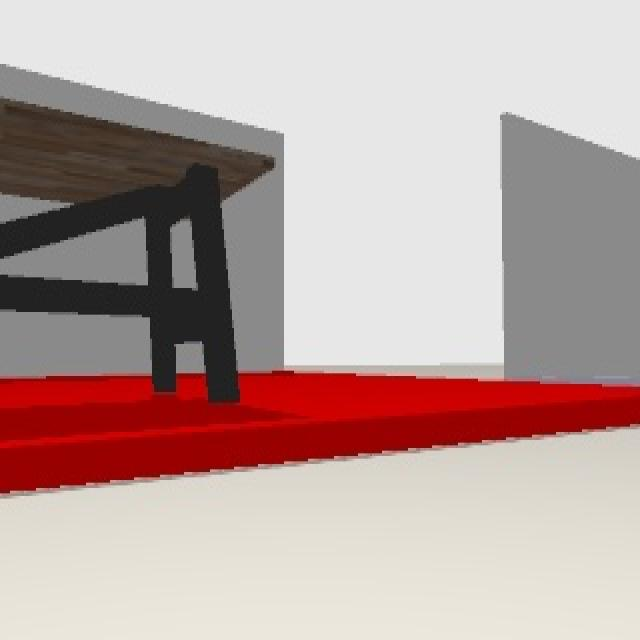dining: (0, 96, 276, 402)
